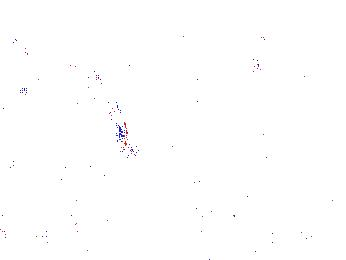X-ray fish: (237, 56, 264, 76), (275, 56, 289, 77)
glassfish: (81, 67, 135, 157)
redtail glassfish: (1, 32, 40, 55)
